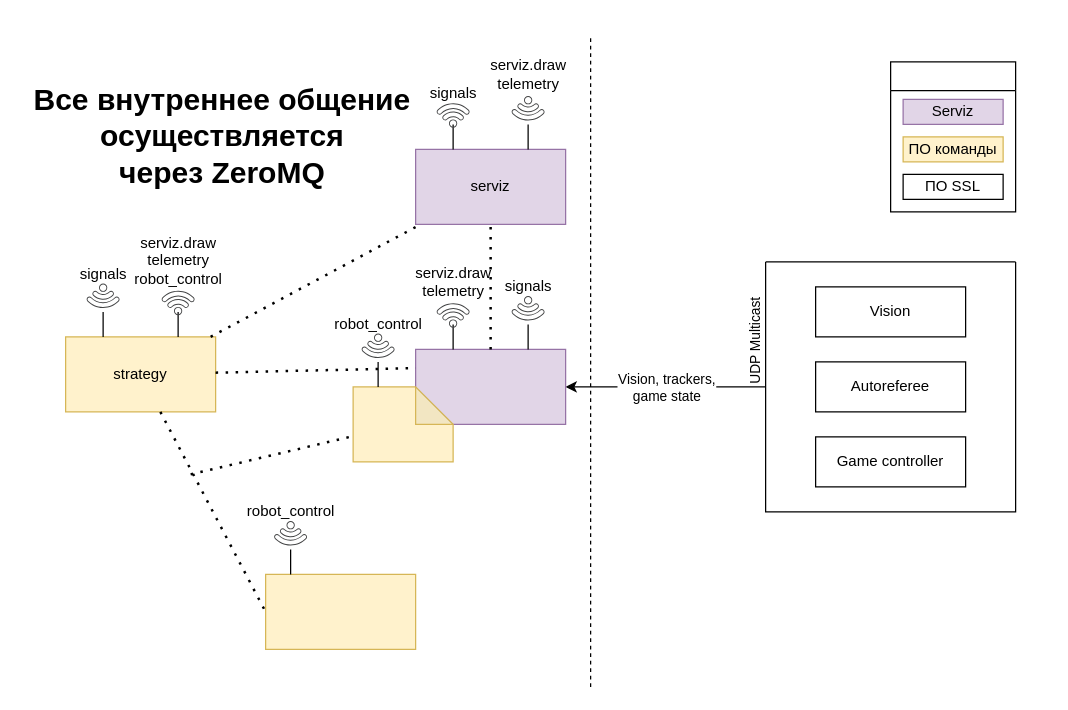
Image size: 1068x710. Some labels were removed from this diagram. The box of each missing label's shape, as (x1, y1, x2, y2) in pixels:
Control box: (264, 573, 416, 649)
Ctrl decoder: (352, 386, 453, 462)
LARCmaCS: (414, 348, 566, 424)
Легенда: (889, 61, 1016, 212)
